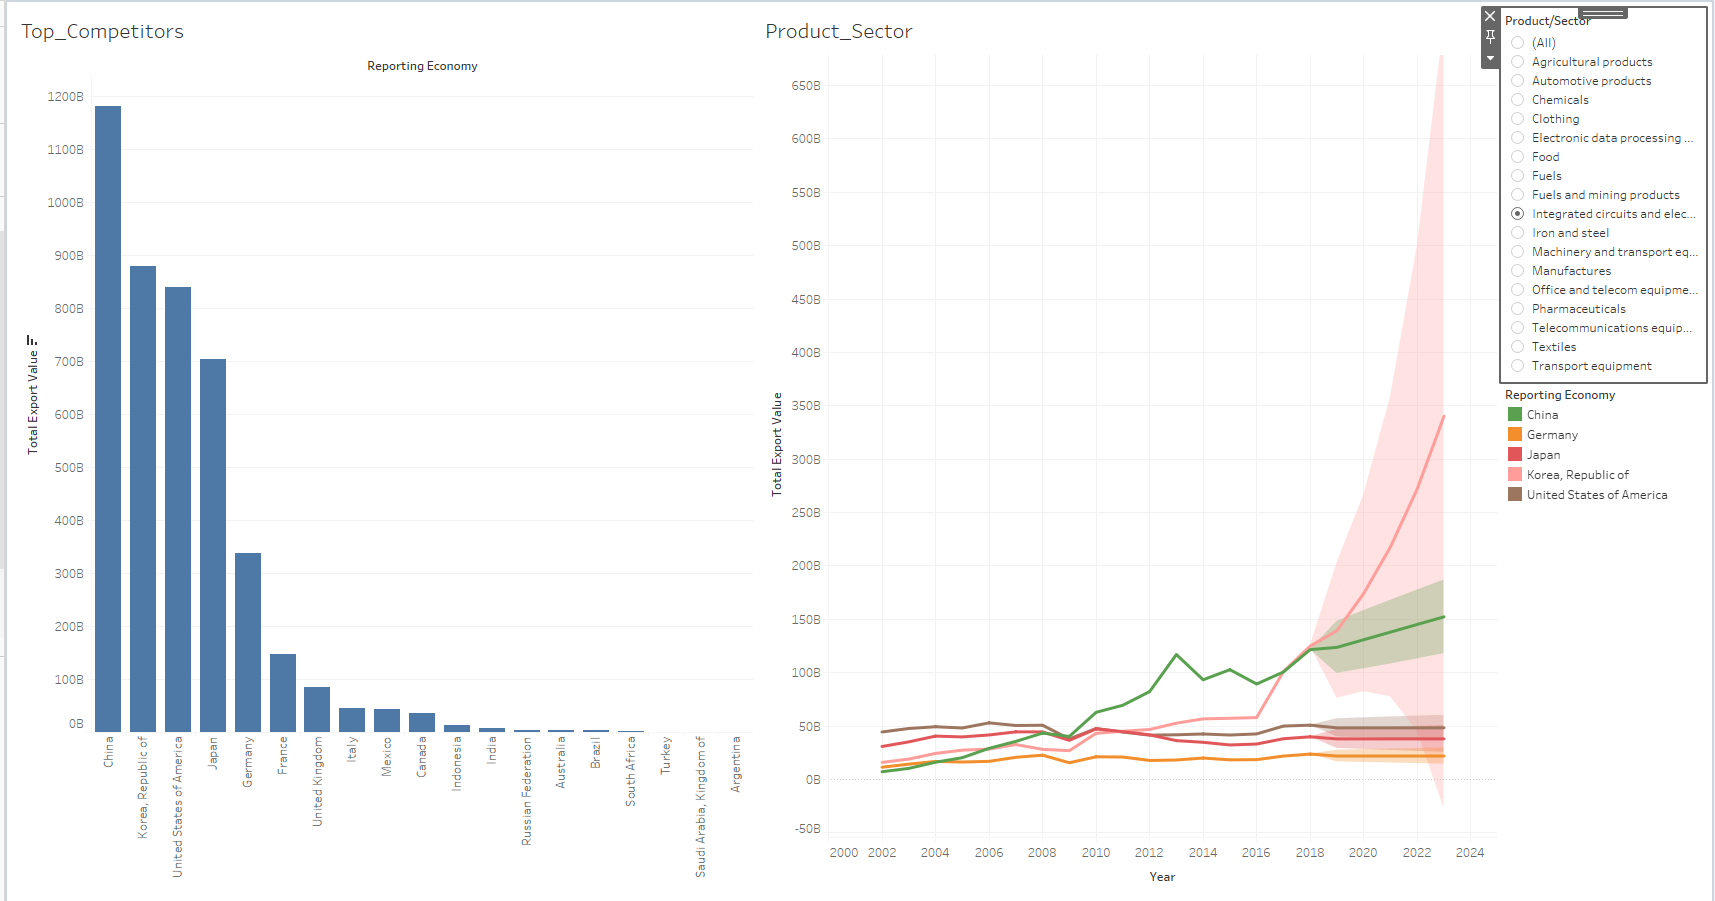

Layout of this report page (visuals, bound fields, positions):
{"tool":"tableau","page":{"name":"Conclusion","canvas":[1000,1000],"units":"permille","ordinal":2},"visuals":[{"type":"worksheet","title":"Top_Competitors","mark":"Automatic","rows":["Calculation_2467972637101780994"],"cols":["Reporting Economy"],"box":[4.8,9.3,433.3,981.4]},{"type":"worksheet","title":"Product_Sector","mark":"Automatic","rows":["Calculation_2467972637101780994"],"cols":["Year"],"box":[438.1,9.3,433.3,981.4]},{"type":"filter","title":"Top_Competitors","param":"[federated.16qiiab0iv4jat1cmajtp0xlhkpr].[none:Product/Sector:nk]","box":[871.5,9.3,123.7,522.6]},{"type":"legend","title":"Product_Sector","param":"[federated.16qiiab0iv4jat1cmajtp0xlhkpr].[none:Reporting Economy:nk]","box":[871.5,531.9,123.7,156.8]}]}

Visuals, with their boxes on the dashboard's canvas, which has no fixed pixel size, in thousandths of its width and height (x1, y1, x2, y2). These are canvas units, not pixel positions in the 1715x901 screenshot, which may show the page scaled, cropped or inside an application window:
"Top_Competitors" worksheet: locate(5, 9, 438, 991)
"Product_Sector" worksheet: locate(438, 9, 871, 991)
"Top_Competitors" filter: locate(872, 9, 995, 532)
"Product_Sector" legend: locate(872, 532, 995, 689)
